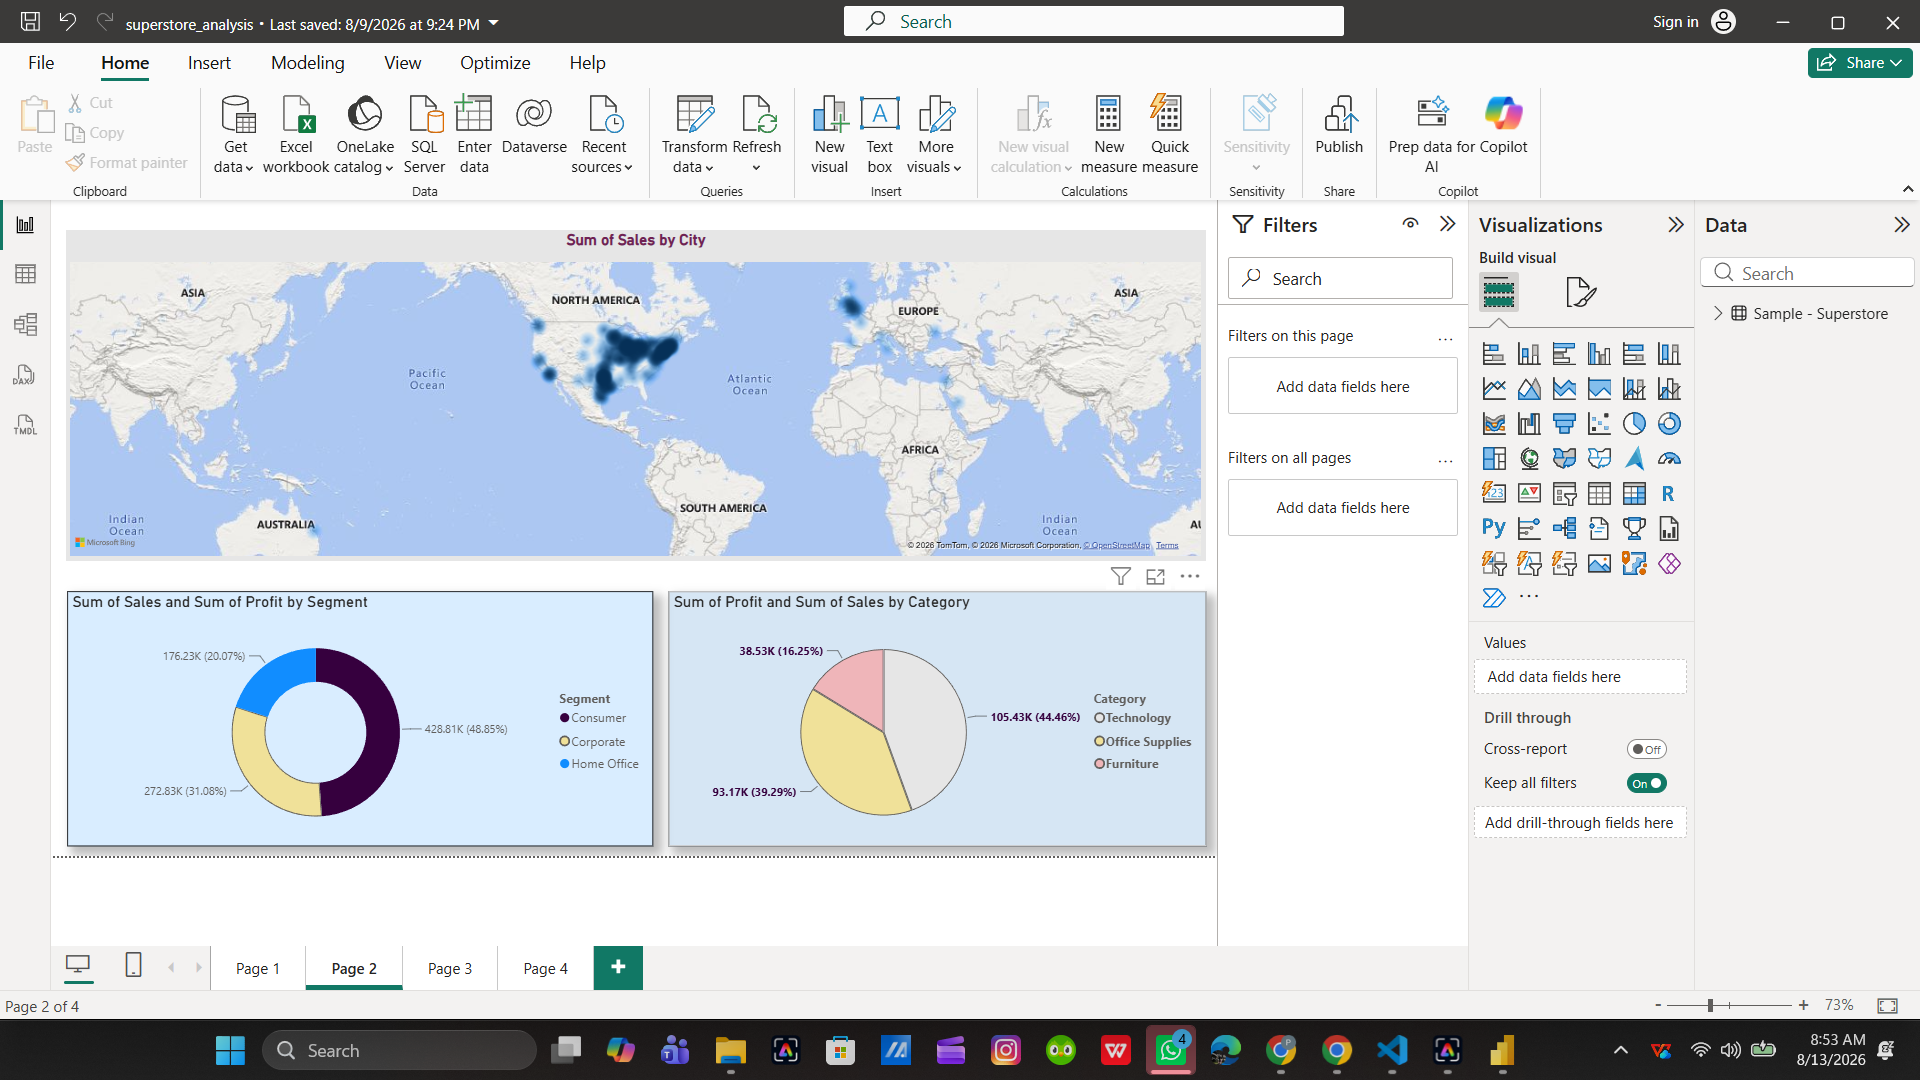

Layout of this report page (visuals, bound fields, positions):
{"tool":"powerbi","page":{"name":"Page 2","canvas":[1280,720],"ordinal":1},"visuals":[{"type":"map","fields":{"Category":["Sample - Superstore.City"]},"box":[16.5,32.9,1251.5,362.3],"z":0},{"type":"donutChart","fields":{"Category":["Sample - Superstore.Segment"],"Y":["Sum(Sample - Superstore.Sales)"]},"box":[17.8,429.5,643.6,279.9],"z":1000},{"type":"pieChart","fields":{"Category":["Sample - Superstore.Category"],"Y":["Sum(Sample - Superstore.Profit)"]},"box":[677.9,429.5,590.1,279.9],"z":2000}]}

Visuals, with their boxes on the page's 1280x720 design canvas (x1, y1, x2, y2). These are canvas units, not pixel positions in the 1920x1080 screenshot, which may show the page scaled, cropped or inside an application window:
map - Sample - Superstore.City: bbox(16, 33, 1268, 395)
donutChart - Sample - Superstore.Segment x Sum(Sample - Superstore.Sales): bbox(18, 430, 661, 709)
pieChart - Sample - Superstore.Category x Sum(Sample - Superstore.Profit): bbox(678, 430, 1268, 709)
